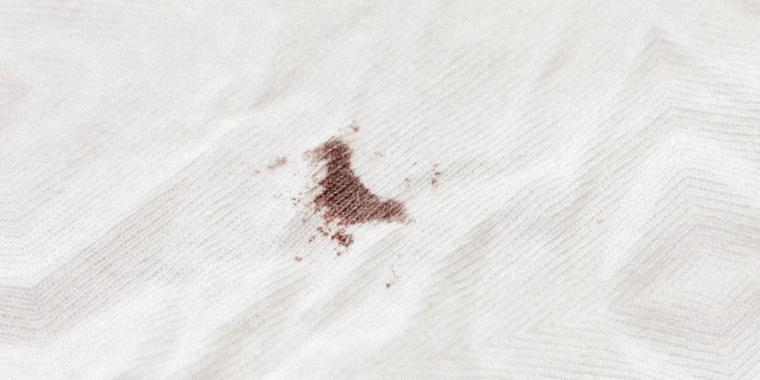stain: (303, 138, 413, 259)
